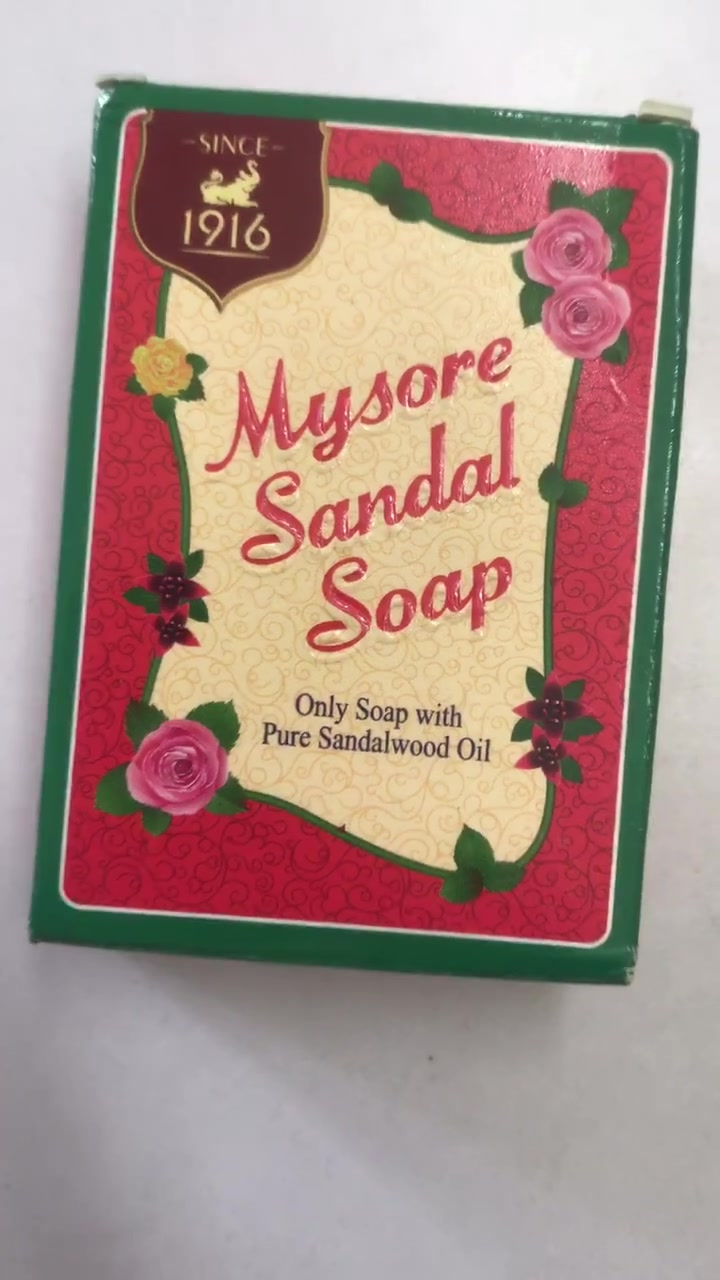mysore sandal soap: (27, 77, 701, 991)
